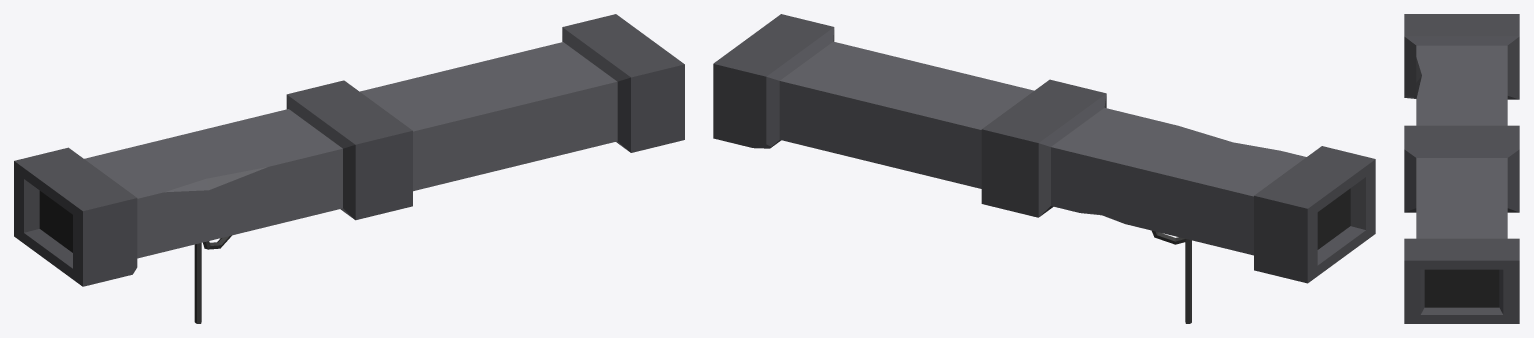
File: SM_Prop_Detail_CeilingBox_02.fbx
3 views of the same model, side by side, from view 1: azimuth 30°, elevation 25°; view 2: azimuth 150°, elevation 25°; view 3: azimuth 270°, elevation 25° (orthographic). The views are drawn at different scales.
Visible parts, largest first — view 1: SM_Prop_Detail_CeilingBox_02_LOD0; view 2: SM_Prop_Detail_CeilingBox_02_LOD0; view 3: SM_Prop_Detail_CeilingBox_02_LOD0.
Boxes of the visible parts, left/top/right/bottom form: SM_Prop_Detail_CeilingBox_02_LOD0: left=14, top=14, right=684, bottom=323; SM_Prop_Detail_CeilingBox_02_LOD0: left=713, top=14, right=1375, bottom=323; SM_Prop_Detail_CeilingBox_02_LOD0: left=1404, top=14, right=1519, bottom=323.
Bounding box in the file's own units: 99.04 × 500 × 140.
1 material, 1 textured.
